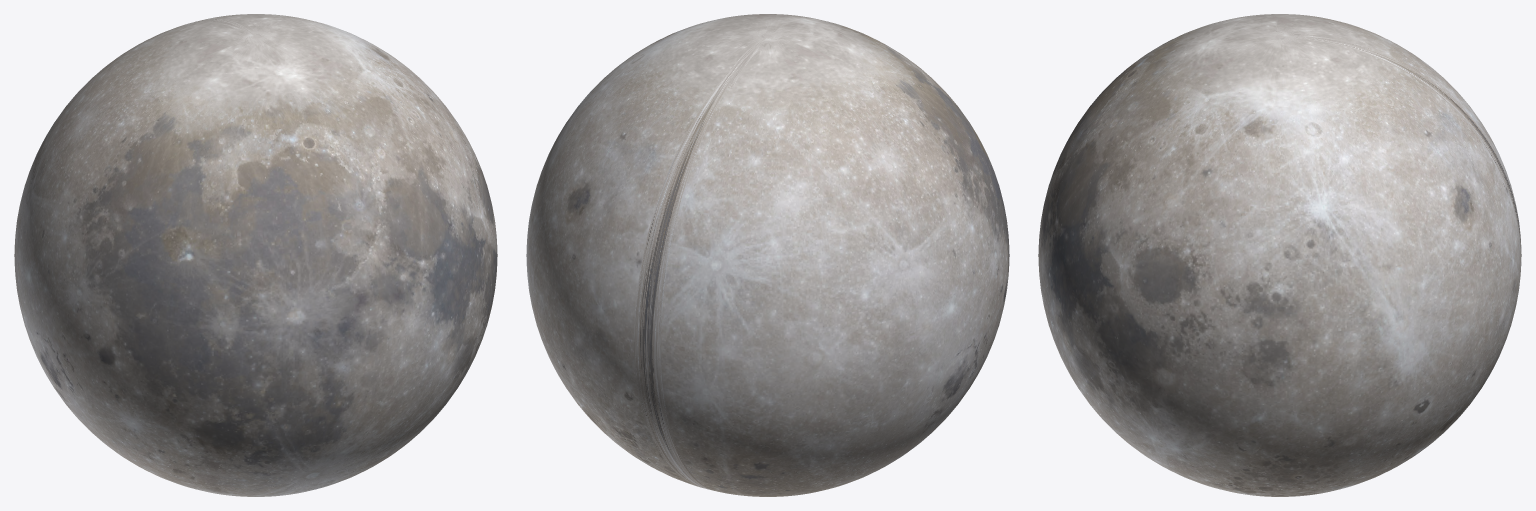
File: moon_lod0.glb
3 views of the same model, side by side, from view 1: azimuth 30°, elevation 25°; view 2: azimuth 150°, elevation 25°; view 3: azimuth 270°, elevation 25° (orthographic).
Visible parts, largest first — view 1: Sphere; view 2: Sphere; view 3: Sphere.
Part boxes in pixels (x1,y1,x2,y2): Sphere: [14, 14, 497, 496]; Sphere: [526, 14, 1009, 496]; Sphere: [1038, 14, 1521, 496].
Bounding box in the file's own units: 2 × 2 × 2.
1 material, 1 textured.
